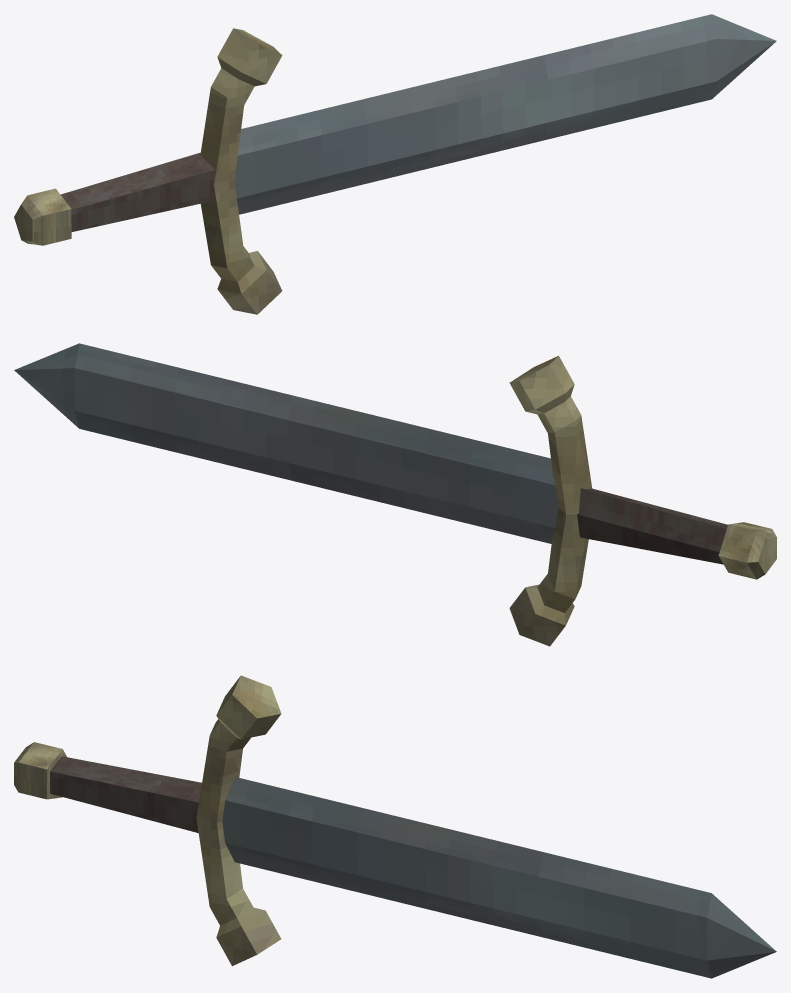
Rendered from sword.gltf.
3 renders of one model, top to bottom at view 1: azimuth 30°, elevation 25°; view 2: azimuth 150°, elevation 25°; view 3: azimuth 330°, elevation 25°, orthographic.
Visible parts, largest first — view 1: Blade, CrossGuard, Grip, Pommel; view 2: Blade, CrossGuard, Grip, Pommel; view 3: Blade, CrossGuard, Grip, Pommel.
Part boxes in pixels (x1=…): Blade: x1=234, y1=14, x2=776, y2=214; CrossGuard: x1=200, y1=28, x2=282, y2=314; Grip: x1=60, y1=152, x2=215, y2=231; Pommel: x1=14, y1=188, x2=71, y2=245; Blade: x1=14, y1=343, x2=558, y2=543; CrossGuard: x1=509, y1=355, x2=592, y2=646; Grip: x1=577, y1=488, x2=727, y2=564; Pommel: x1=718, y1=522, x2=776, y2=579; Blade: x1=222, y1=777, x2=776, y2=978; CrossGuard: x1=196, y1=675, x2=281, y2=966; Grip: x1=50, y1=756, x2=201, y2=832; Pommel: x1=14, y1=742, x2=66, y2=799.
Bounding box in the file's own units: 2.34 × 0.8376 × 0.1442.
Materials: 3 (3 with a texture image).
